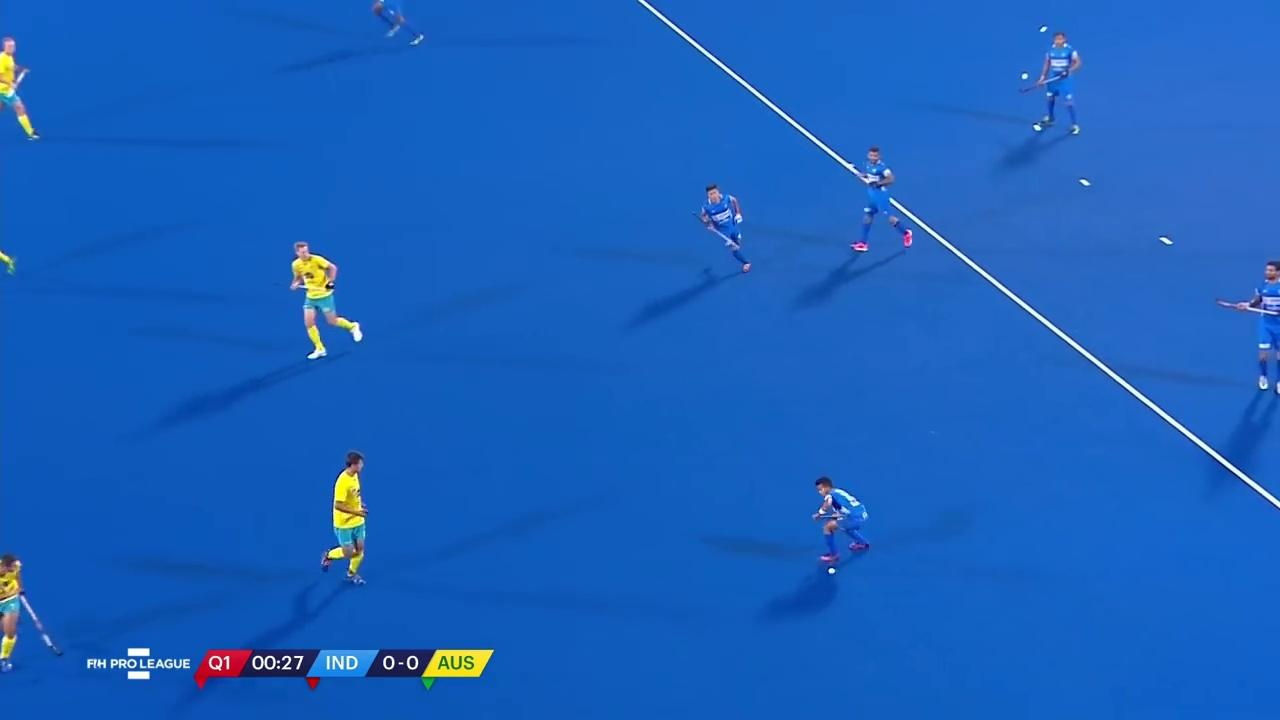ball: (824, 560, 839, 577)
